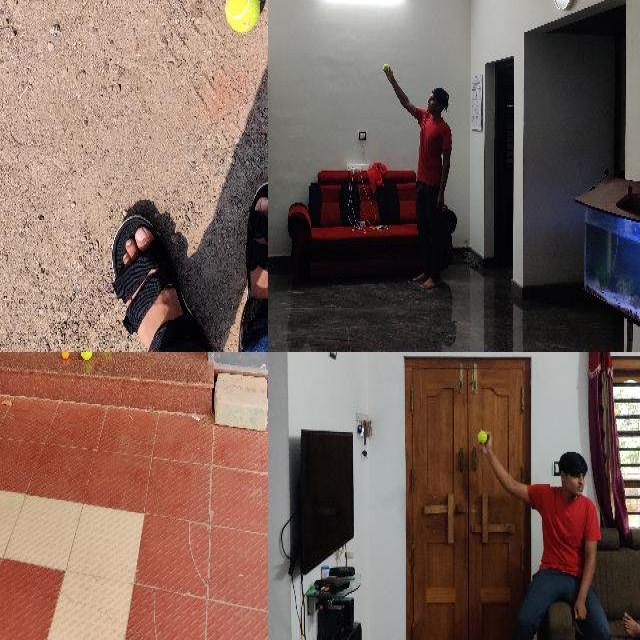tennis-ball: (224, 0, 260, 32), (80, 352, 92, 362), (477, 430, 487, 442), (383, 63, 389, 71)
